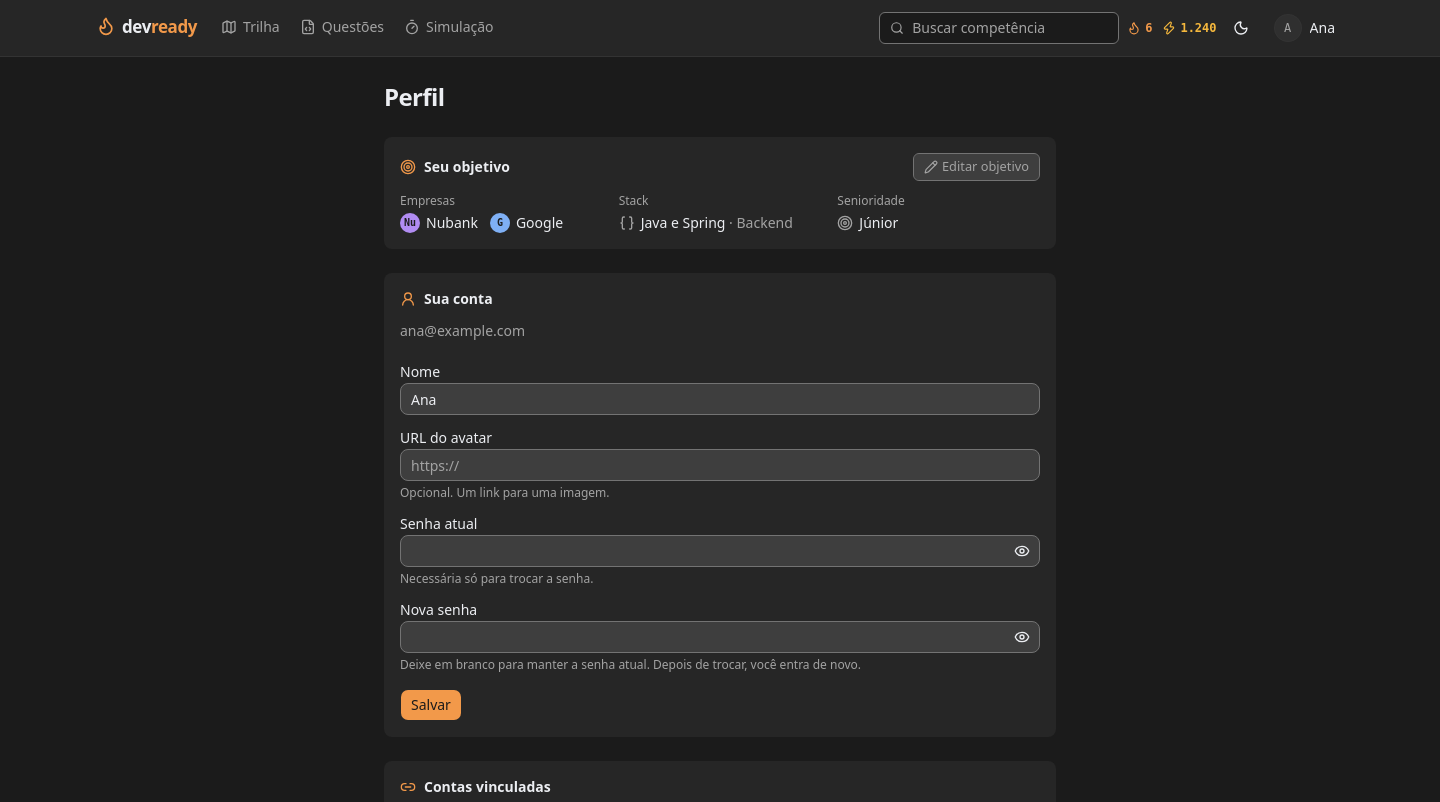
ProfilePage › pede a senha atual antes de enviar a troca
Type "nova-senha-1" into the password field labelled "Nova senha" at (720, 637), box [400,621,1040,653]
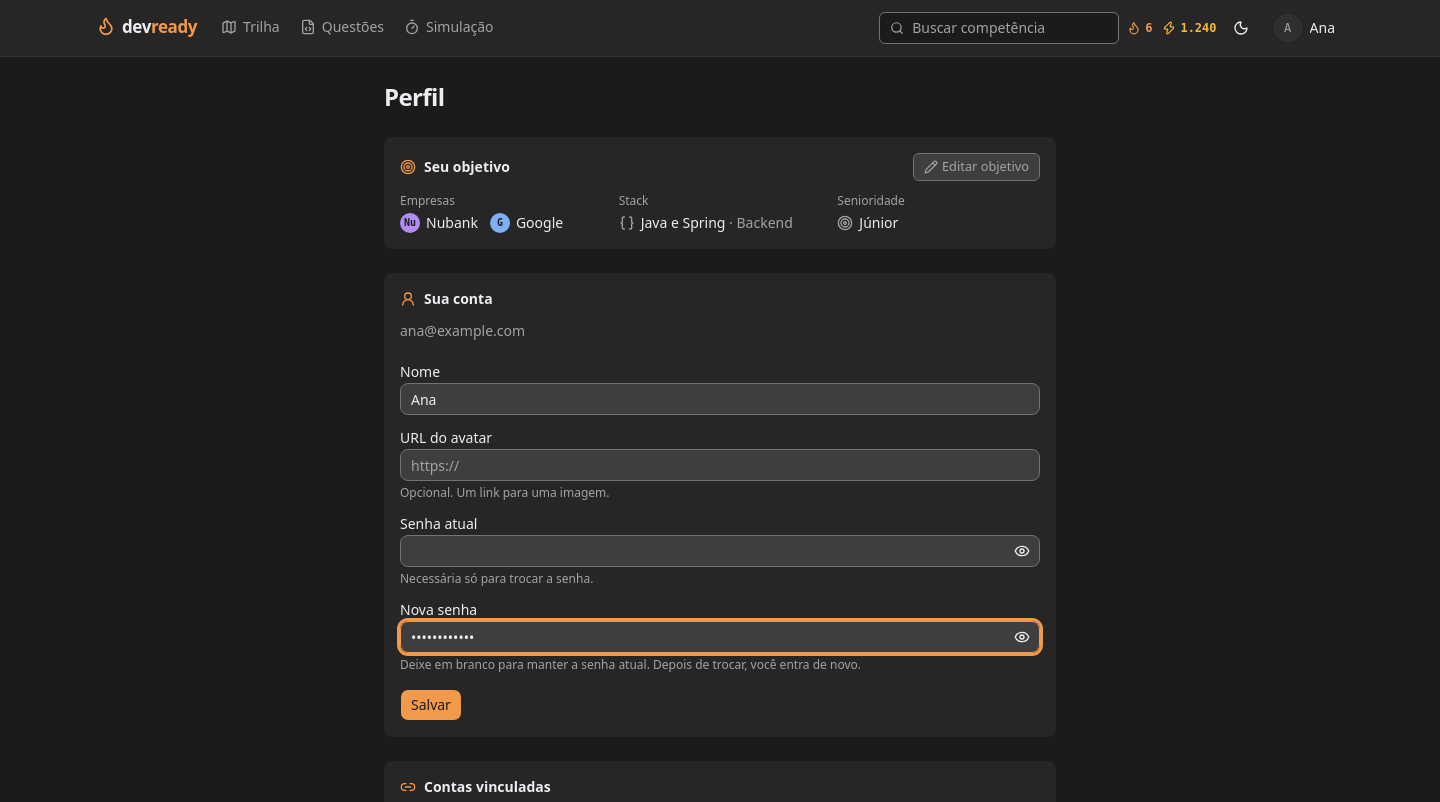
Click the button "Salvar" at (431, 705), box [400,689,462,721]
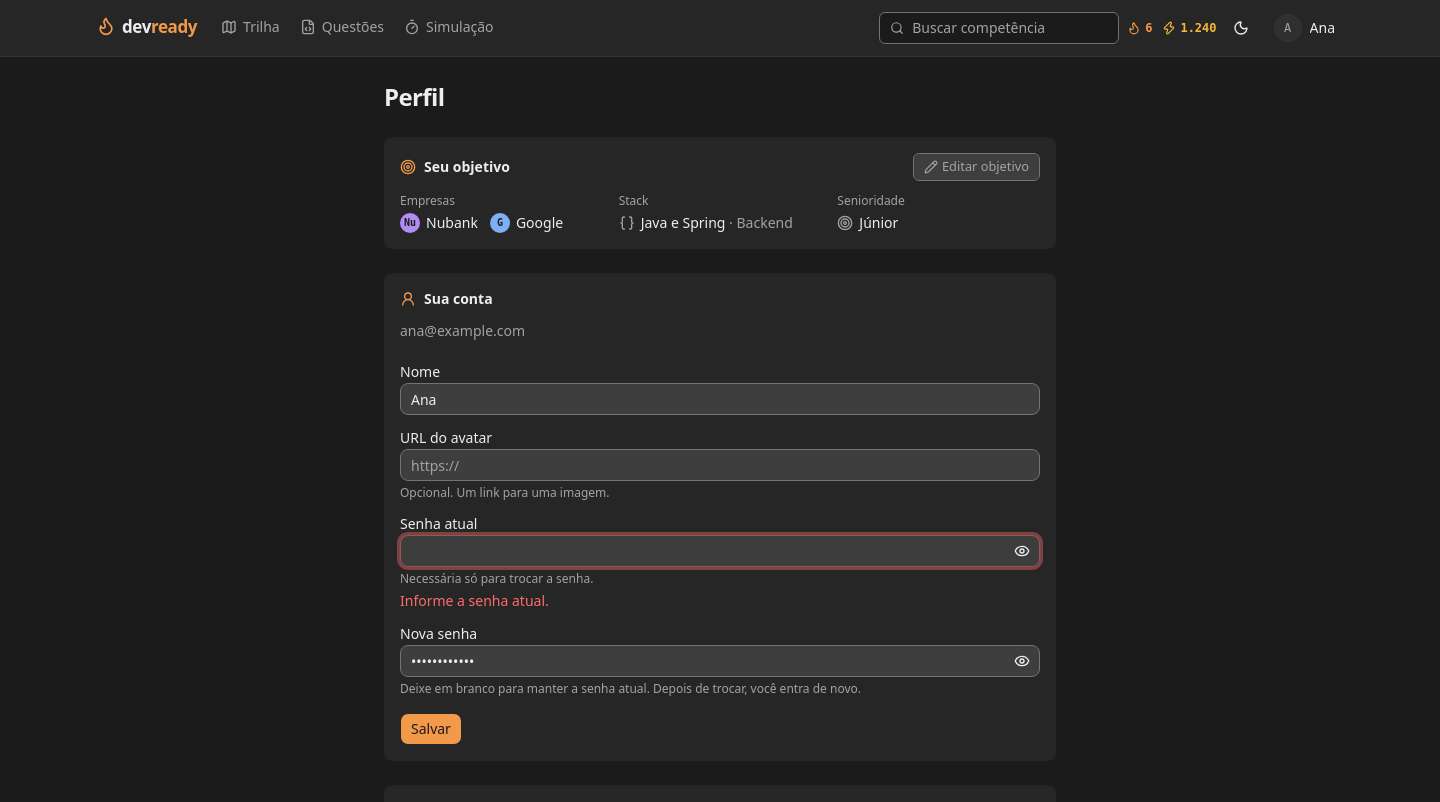
Now the text "Informe a senha atual." is shown, box [400,591,549,610]
